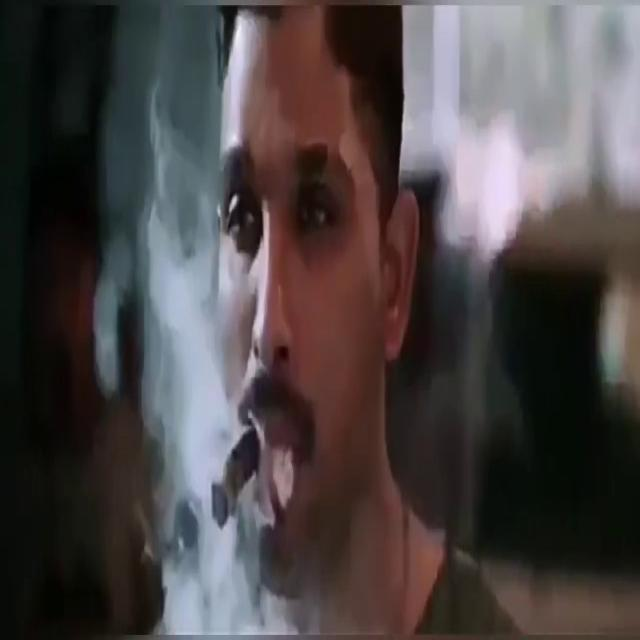smoking: (148, 176, 330, 602)
